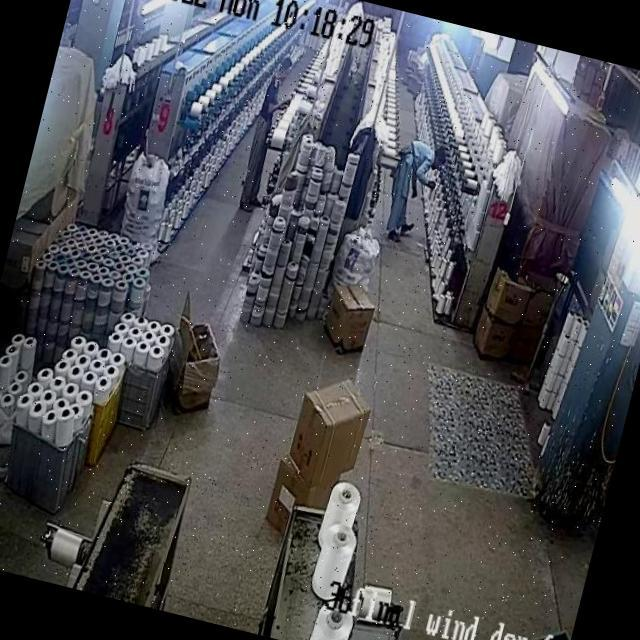person: (240, 56, 296, 201), (378, 134, 442, 238)
